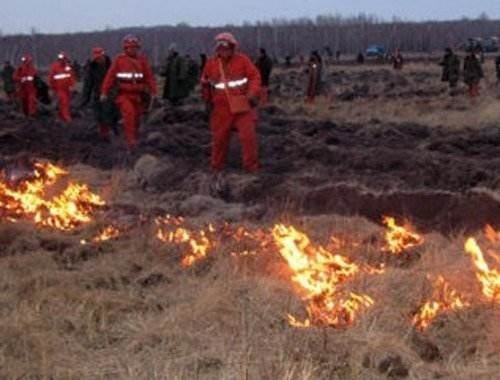fire: (265, 221, 373, 326), (0, 158, 116, 240), (153, 214, 229, 266), (411, 273, 468, 329), (463, 221, 500, 306), (380, 212, 424, 253)
